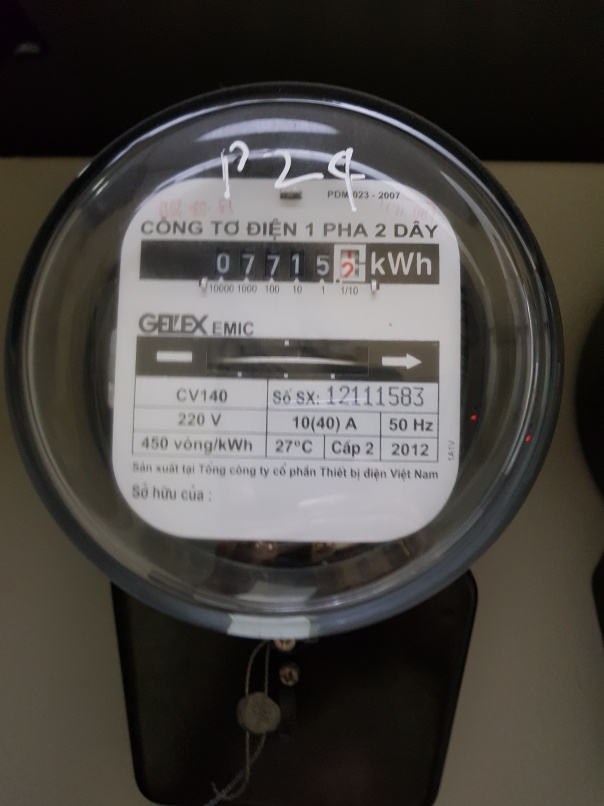counter: (140, 241, 441, 281)
electricity_meter: (13, 86, 561, 639)
